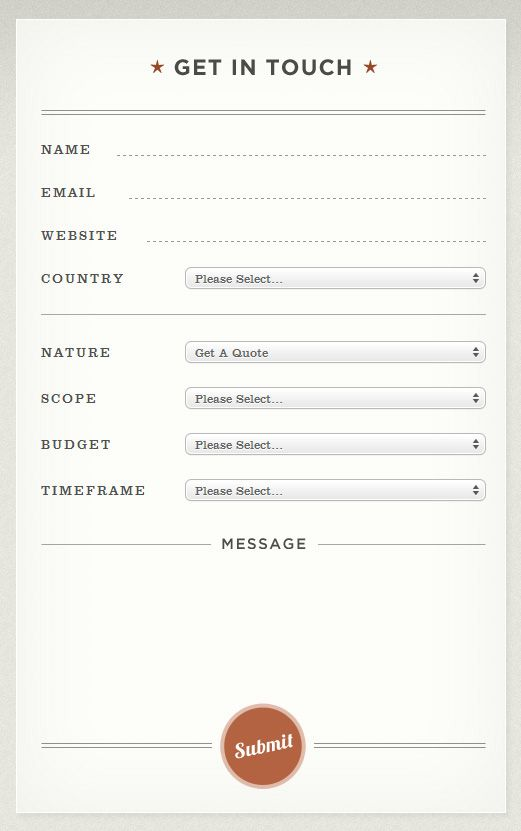_form_: (37, 107, 498, 520)
field: (183, 267, 486, 291), (184, 340, 487, 364), (184, 386, 487, 410), (184, 432, 487, 456), (185, 478, 488, 502)
field_line: (111, 136, 490, 160), (121, 182, 489, 202), (141, 226, 488, 245)
field_line_with_label: (40, 133, 491, 163), (41, 179, 491, 206), (41, 224, 491, 249)
